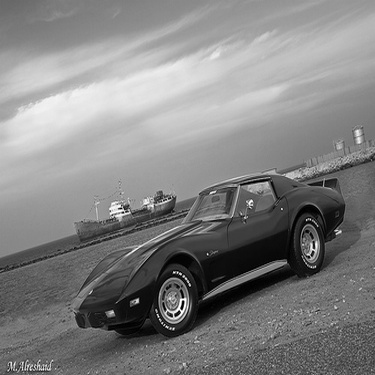car: (70, 152, 355, 339)
